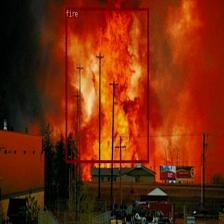fire: (65, 7, 149, 163)
